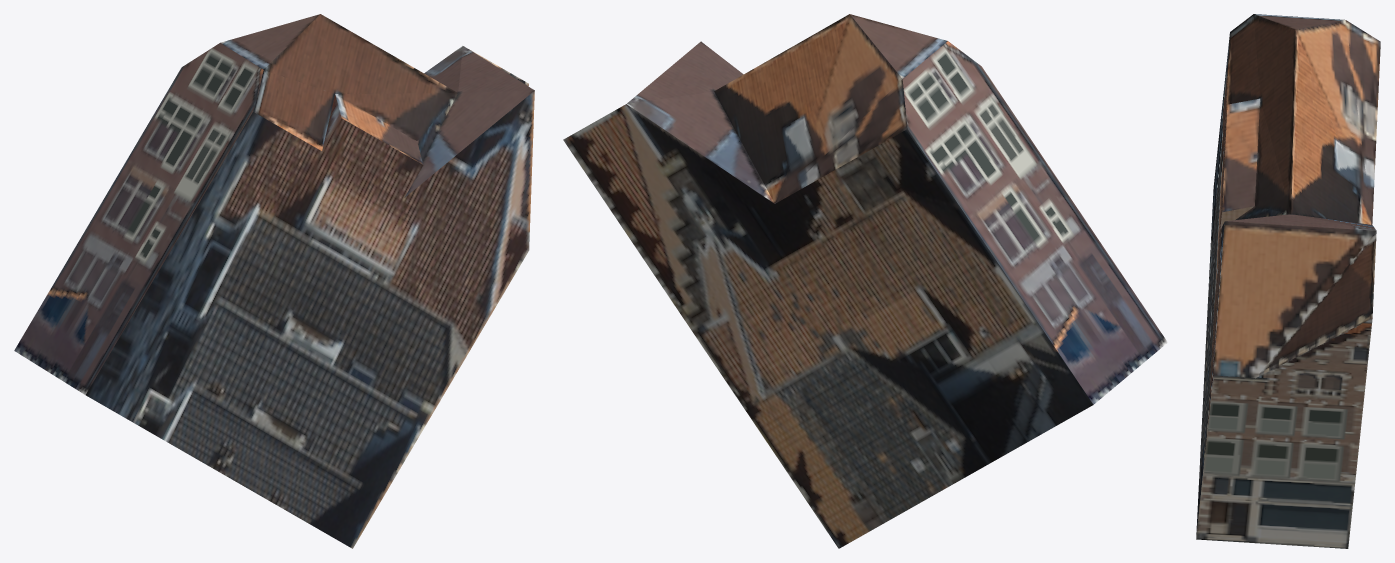
3 renders of one model, left to right at view 1: azimuth 30°, elevation 25°; view 2: azimuth 150°, elevation 25°; view 3: azimuth 270°, elevation 25°, orthographic. The views are drawn at different scales.
Visible parts, largest first — view 1: BAG_0599100000760366 (×5); view 2: BAG_0599100000760366 (×3); view 3: BAG_0599100000760366 (×5).
Part boxes in pixels (<box>): BAG_0599100000760366 (×5): <box>14,14,534,548</box>; BAG_0599100000760366 (×3): <box>563,14,1167,548</box>; BAG_0599100000760366 (×5): <box>1196,14,1380,548</box>.
Size of the model in its own units: 25.28 by 23.47 by 7.46.
Materials: 5 (5 with a texture image).
